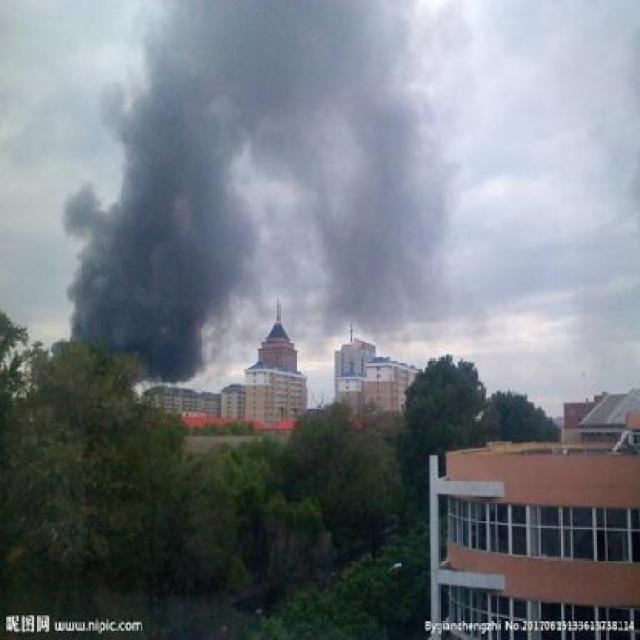Smoke: (68, 0, 257, 383)
